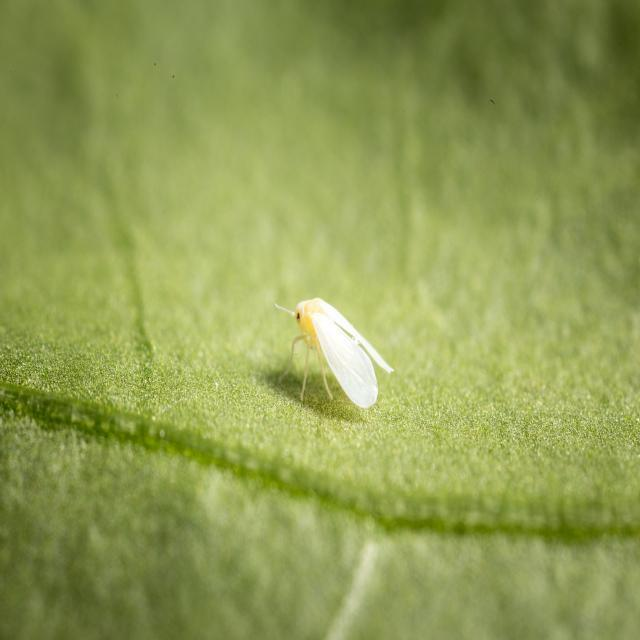Whiteflies: (261, 265, 408, 444)
